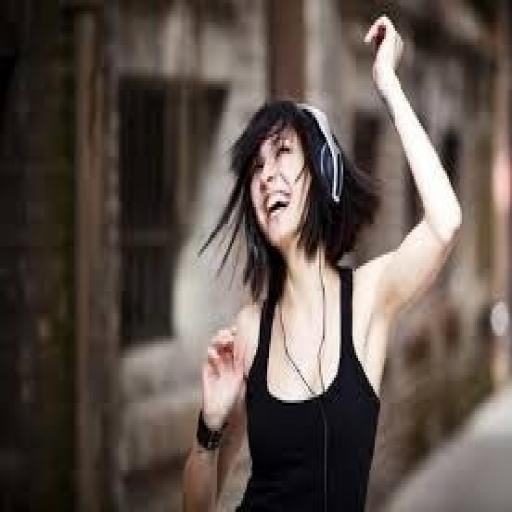listening_to_music: (178, 11, 466, 509)
